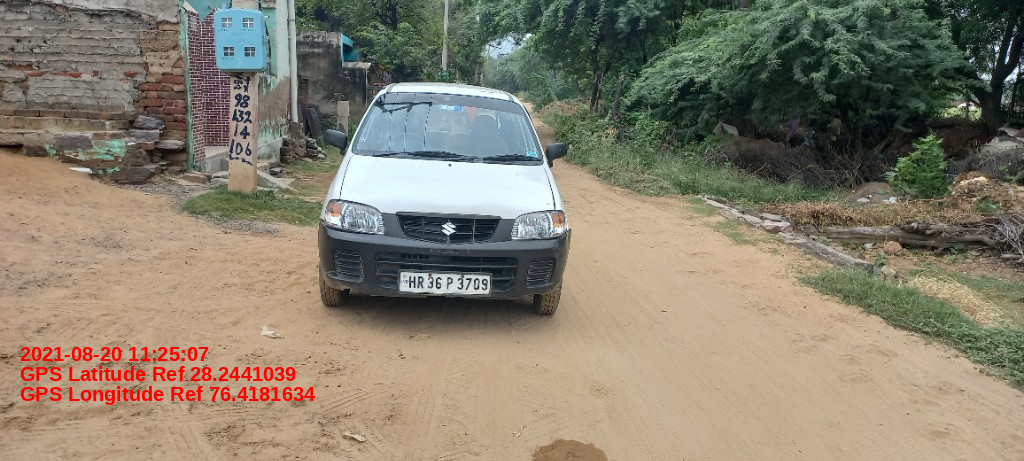Broken: (341, 286, 351, 296)
